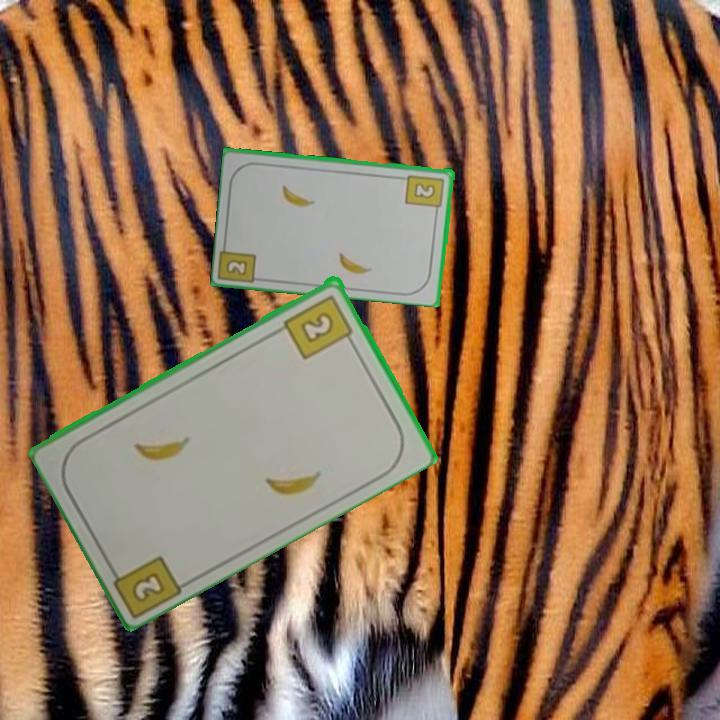2b: (104, 551, 186, 618), (280, 291, 357, 362), (403, 171, 447, 216), (222, 256, 250, 278)
